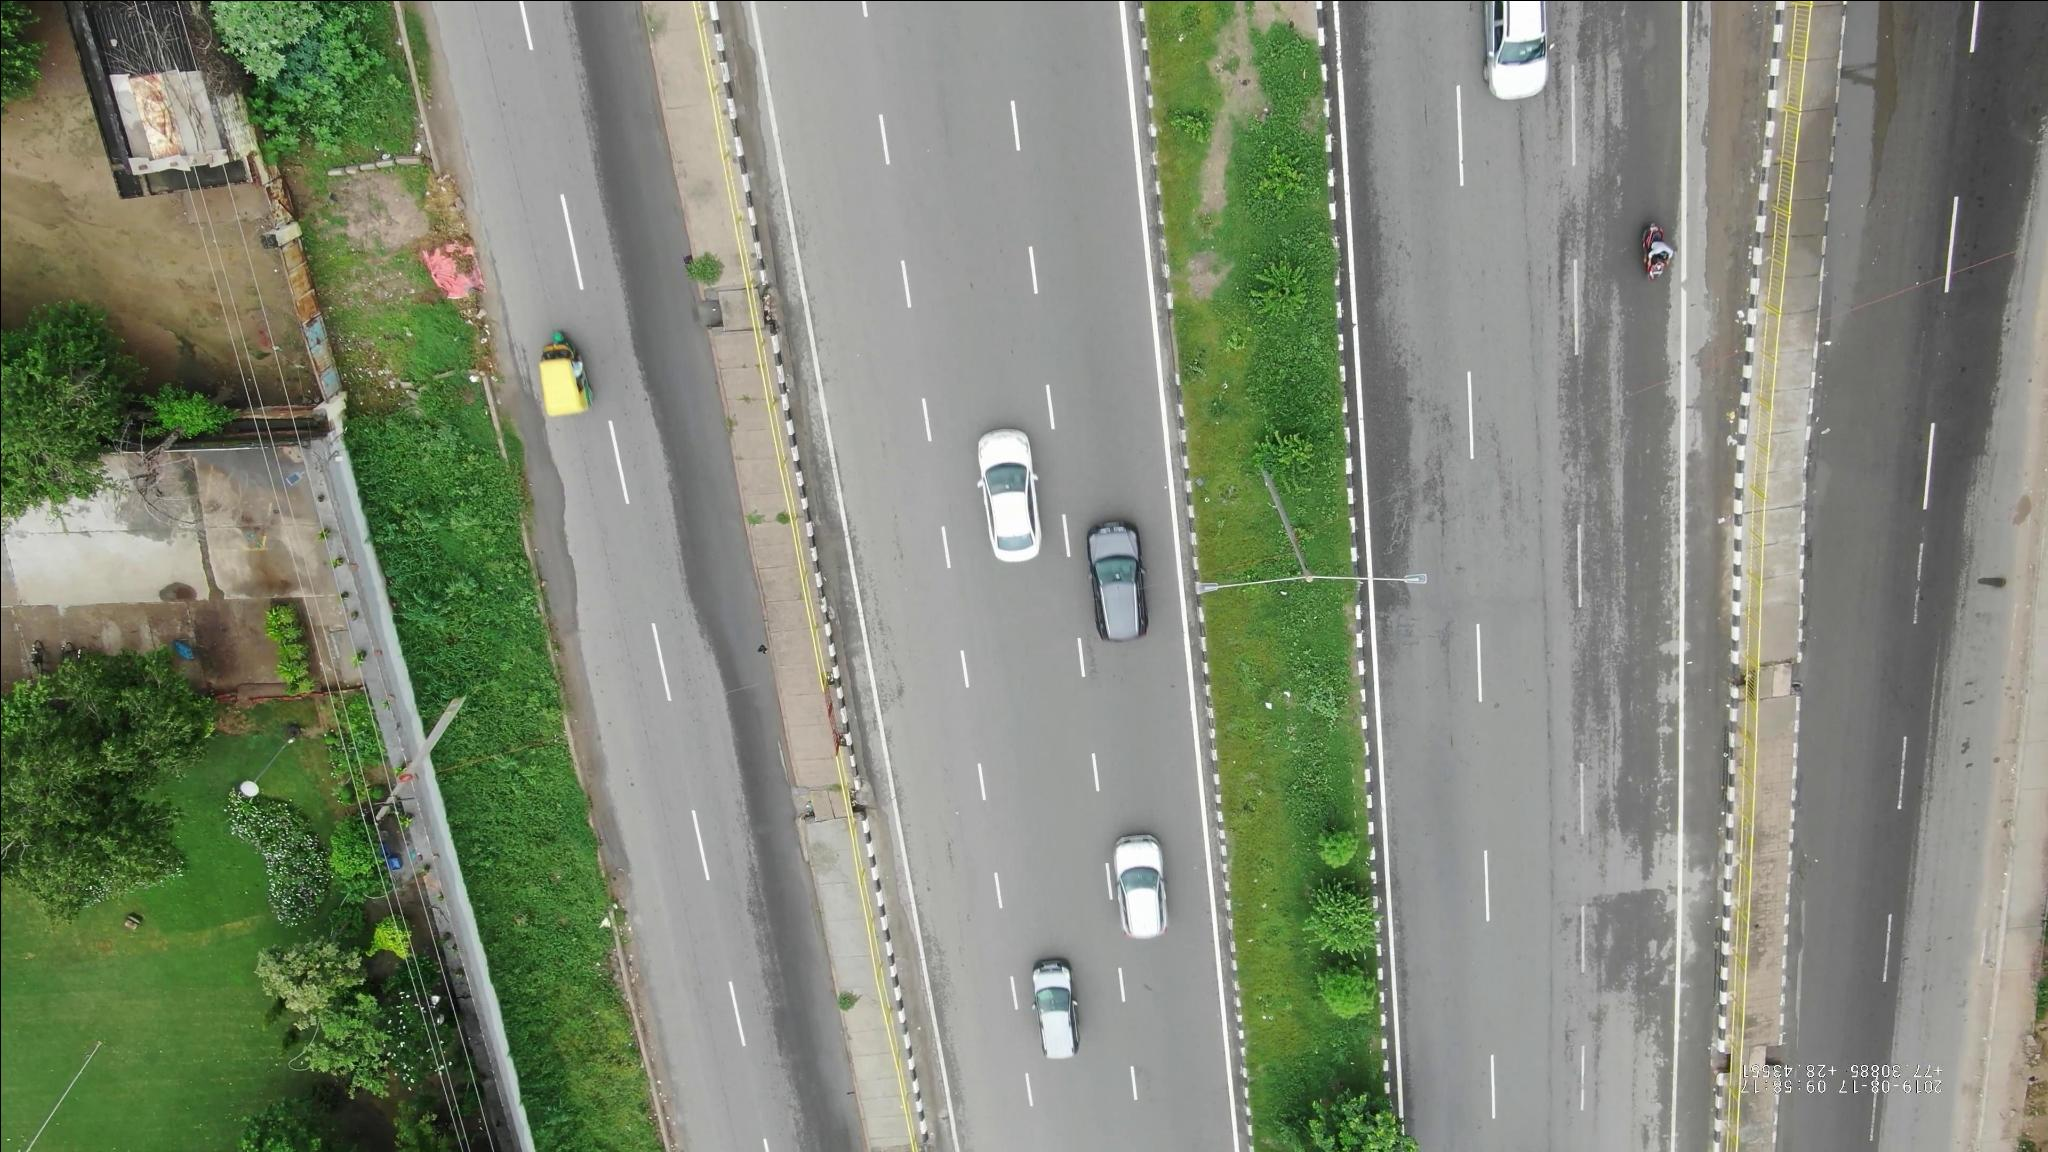Ravelling: (1391, 366, 1491, 591)
